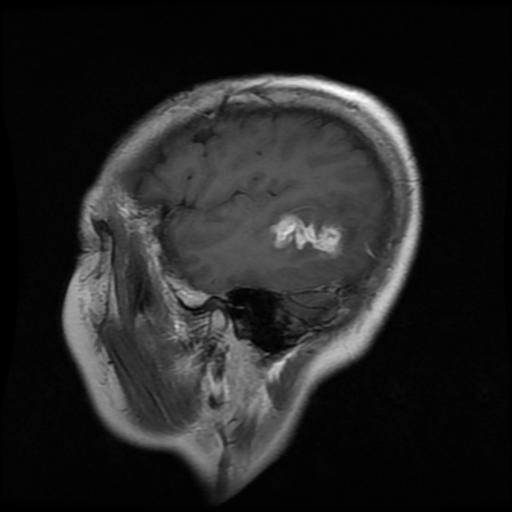Gliomia_tumour: (268, 212, 346, 256)
